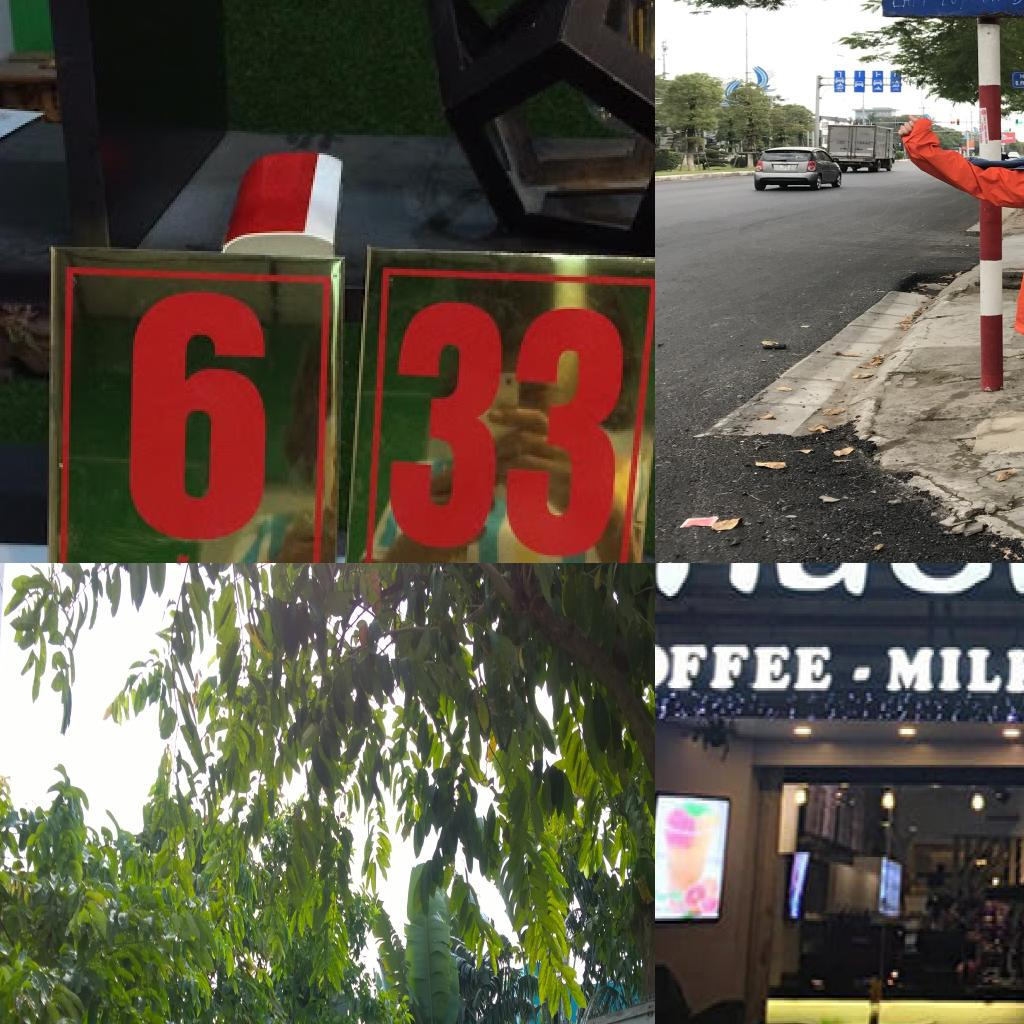text: (383, 297, 633, 563), (119, 283, 273, 547), (657, 563, 1024, 634), (655, 631, 836, 698), (876, 637, 1024, 706), (849, 652, 876, 686), (936, 0, 977, 10), (887, 0, 932, 8), (979, 0, 1001, 6), (856, 140, 873, 145), (1017, 72, 1024, 79), (1014, 80, 1020, 86), (1019, 79, 1024, 86)
